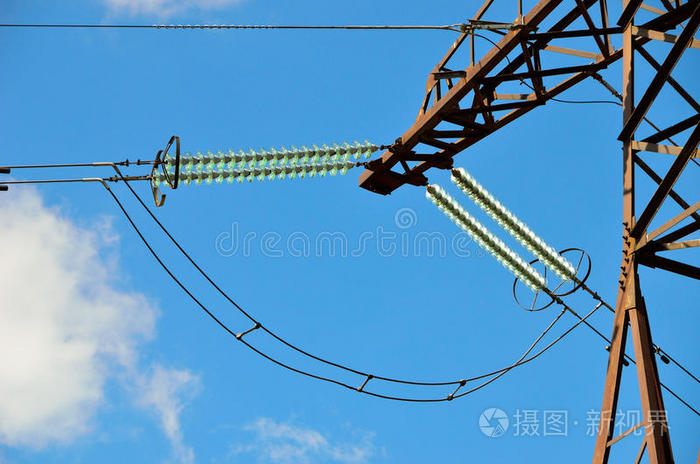insulator: (428, 169, 577, 290), (150, 138, 374, 189)
